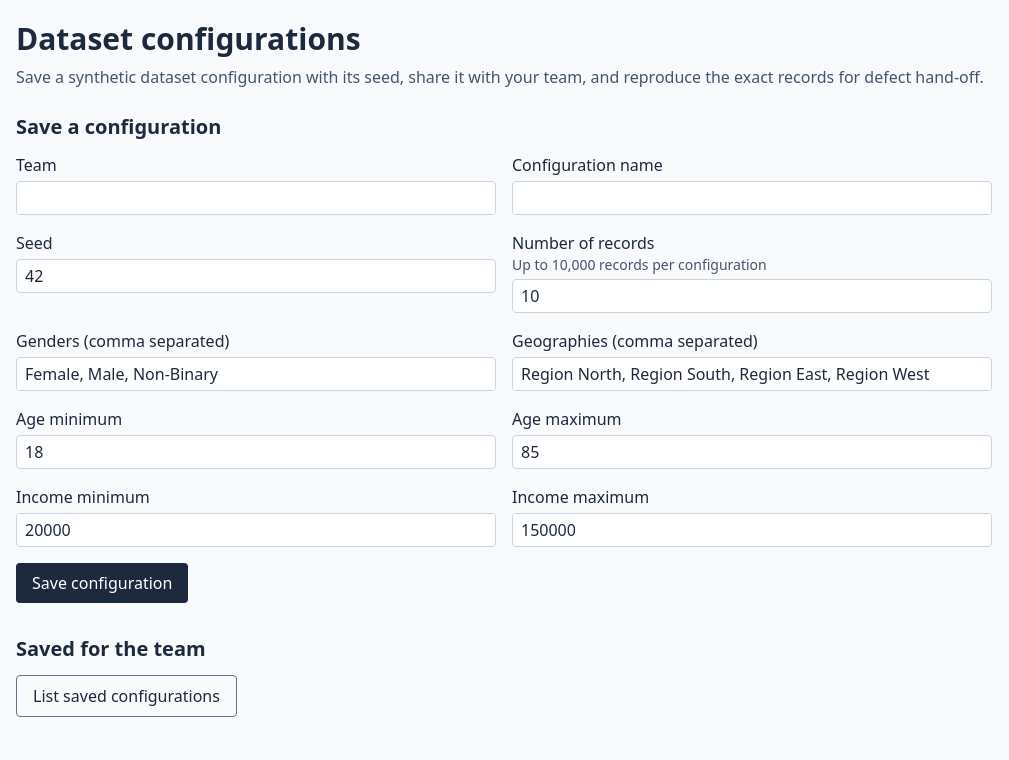
Test case: DatasetConfigurationsPage › lists the configurations saved for the team
Type "atlas" into the field labelled "Team".
click(256, 198); type("atlas")  # box [16,181,496,215]
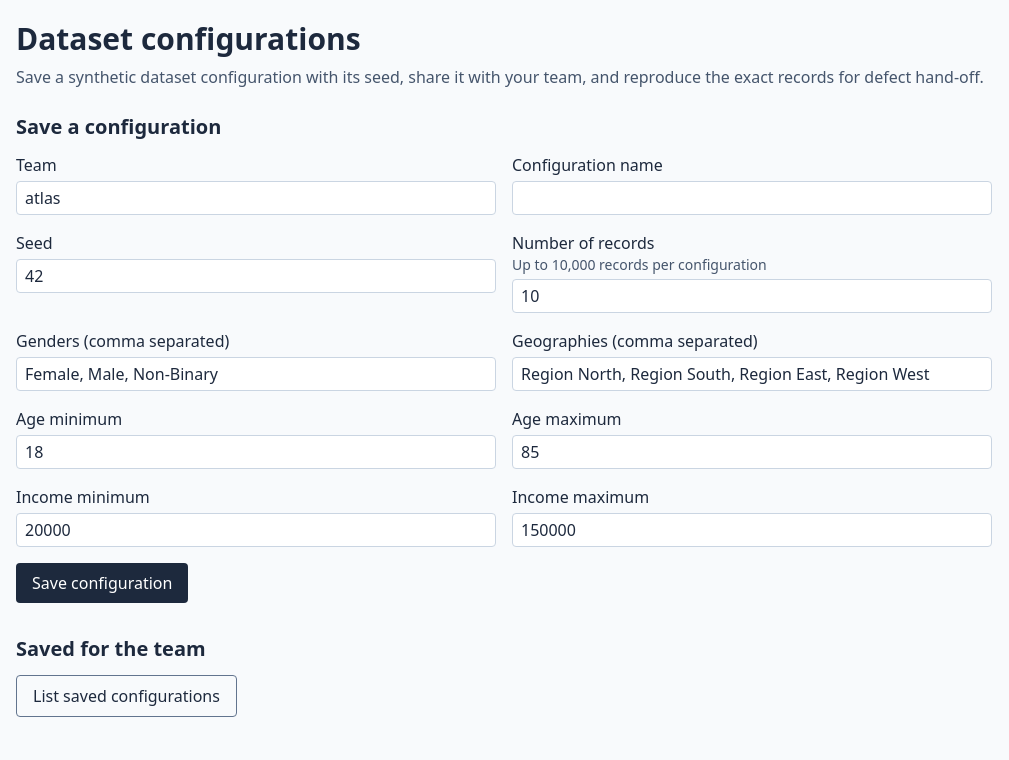
Click the button "List saved configurations".
click(126, 696)  # box [16,675,237,717]
(page scrolled)
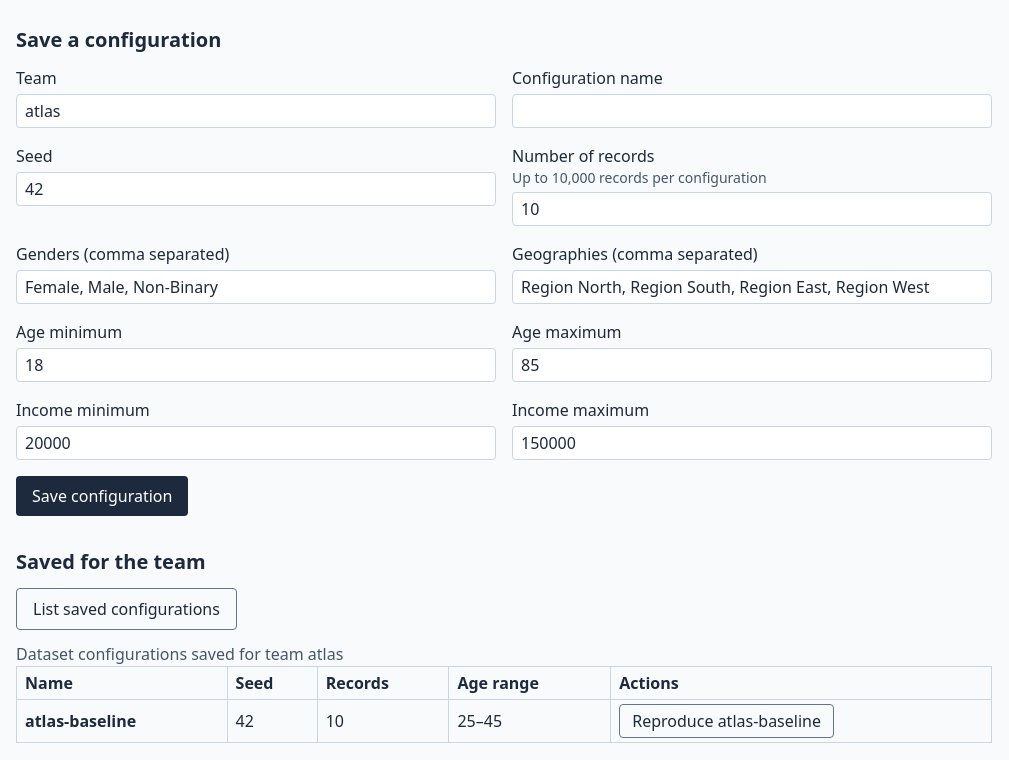
Now the row "atlas-baseline 42 10 25–45 Reproduce atlas-baseline" is shown, box [16,700,992,742]
